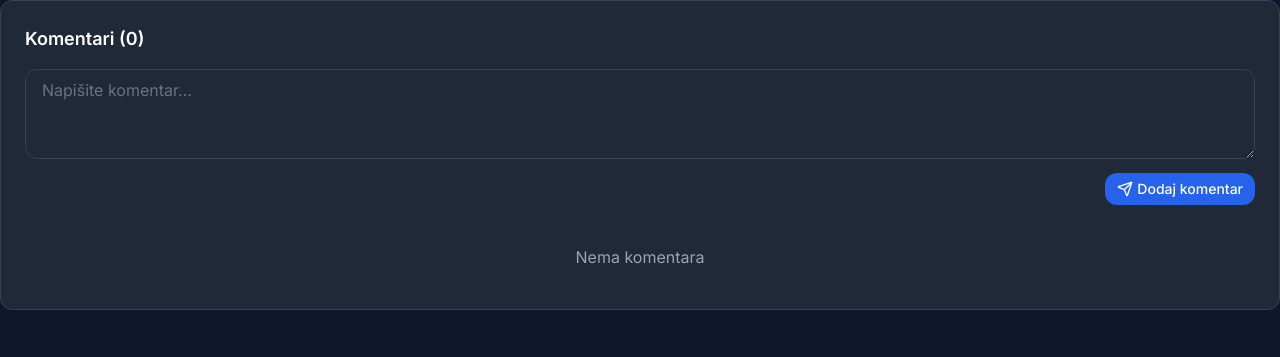
Test: TicketComments › should clear form after successful comment submission
In the text box with placeholder "Napišite komentar...": (640, 114) [25,69,1255,159], type "Test komentar"
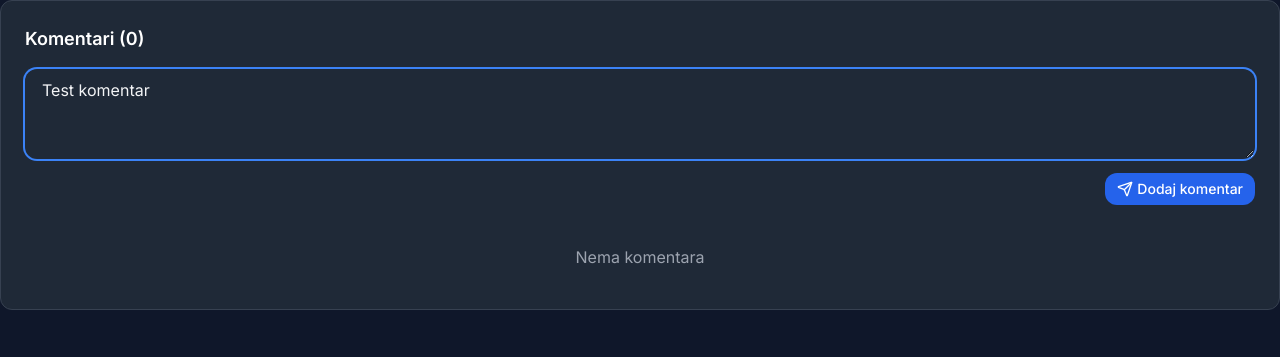
Click the button "Dodaj komentar": (1180, 189) [1105,173,1255,205]
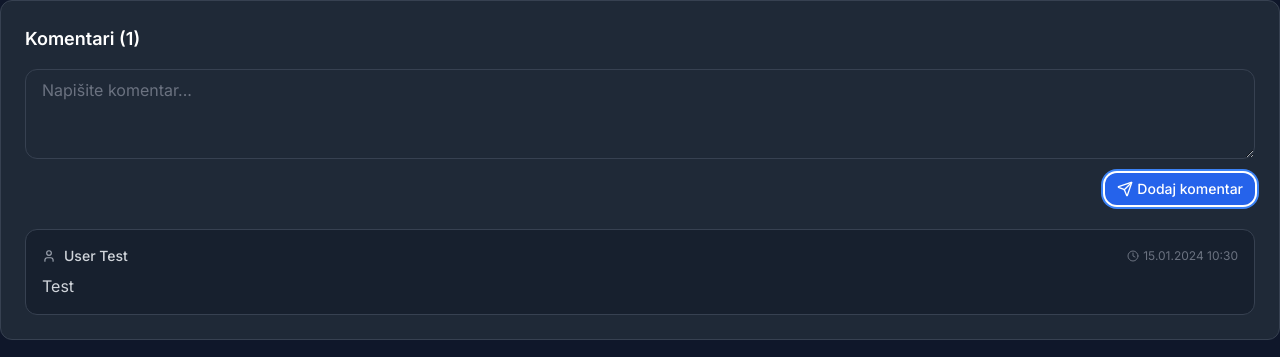
Expected: the text box with placeholder "Napišite komentar..." is empty, [25,69,1255,159]
